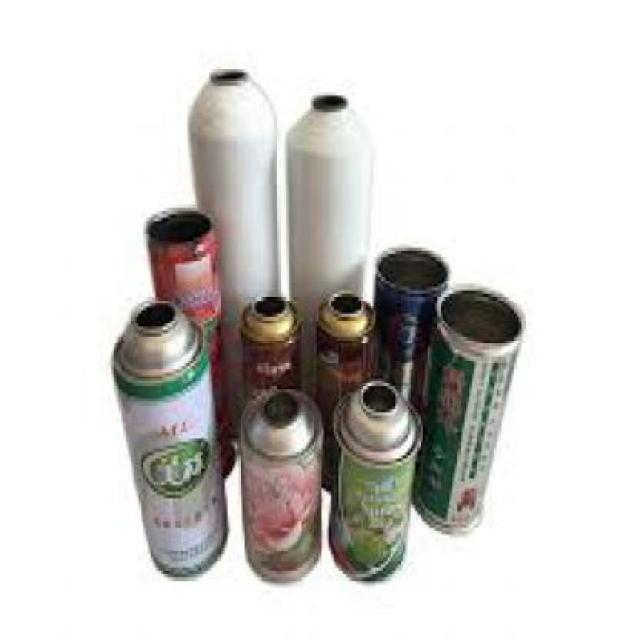METAL: (108, 297, 227, 574), (188, 67, 277, 436), (417, 280, 521, 532), (284, 92, 365, 412), (143, 208, 232, 475), (329, 376, 420, 581), (237, 386, 318, 580), (373, 244, 447, 422), (312, 290, 373, 492), (238, 293, 296, 402)
